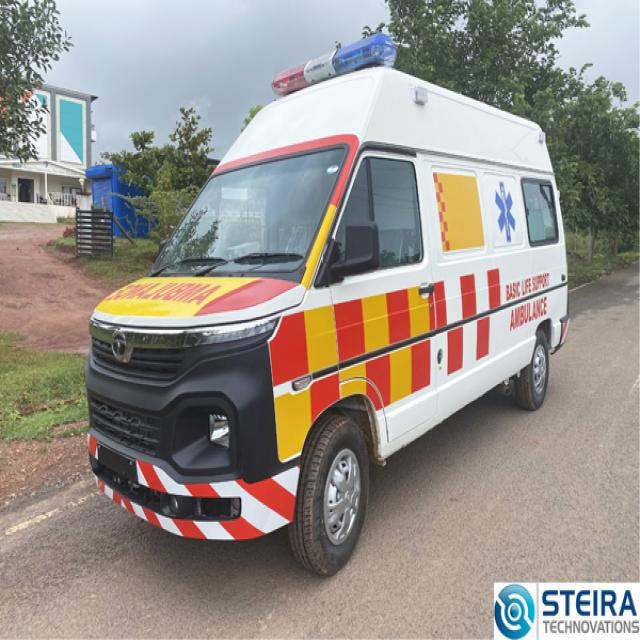emergency: (86, 33, 569, 574)
